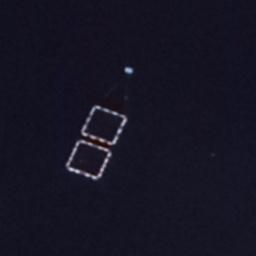square_solid: (62, 137, 115, 184), (78, 103, 128, 149)
